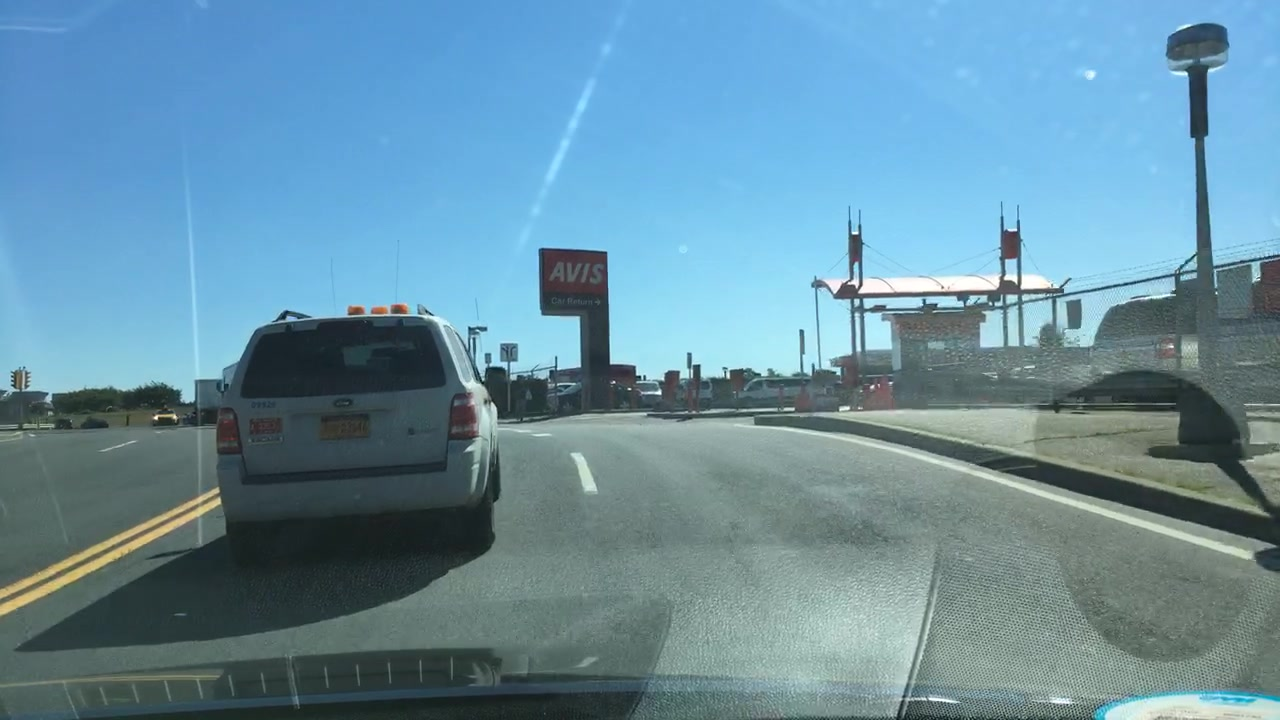licence: (318, 412, 371, 444)
